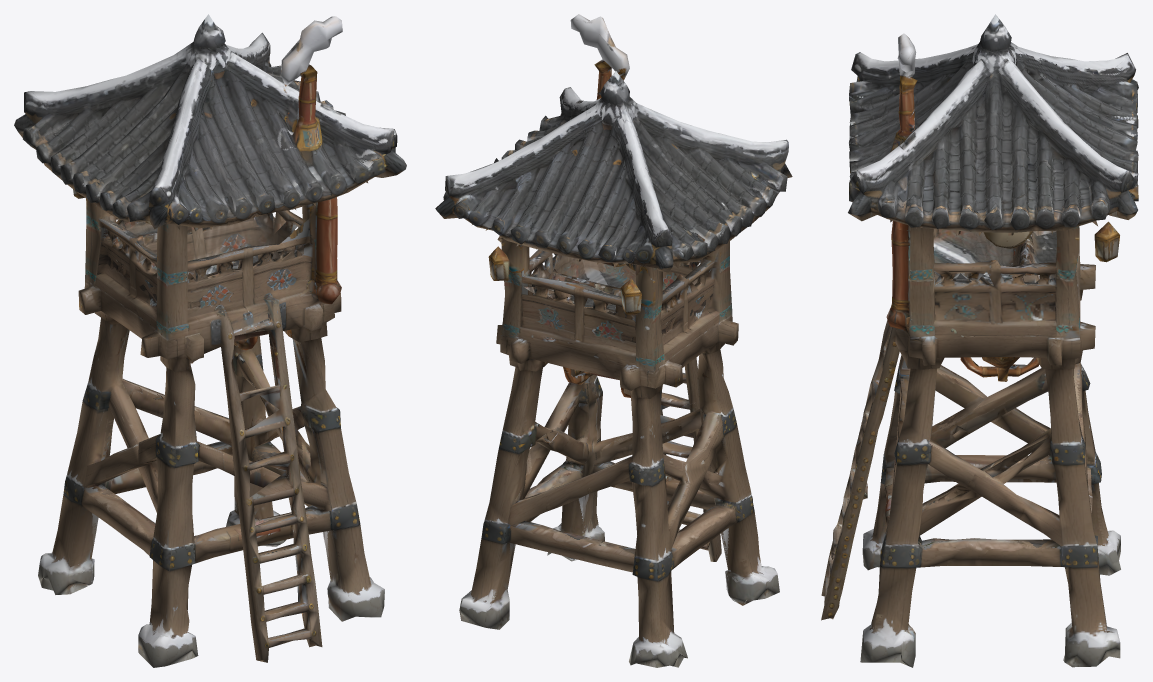
Rendered from PR_Mangru.fbx.
The picture shows the model from 3 angles, left to right: view 1: azimuth 30°, elevation 25°; view 2: azimuth 150°, elevation 25°; view 3: azimuth 270°, elevation 25°; orthographic projection. The views are drawn at different scales.
Parts seen in each view (by area): view 1: texture_mapping; view 2: texture_mapping; view 3: texture_mapping.
Boxes of the visible parts, x1,y1,x2,y2 form: texture_mapping: [14, 14, 406, 667]; texture_mapping: [435, 14, 792, 667]; texture_mapping: [821, 14, 1138, 667].
Bounding box in the file's own units: 0.4664 × 0.4713 × 0.9952.
1 material, 1 textured.
